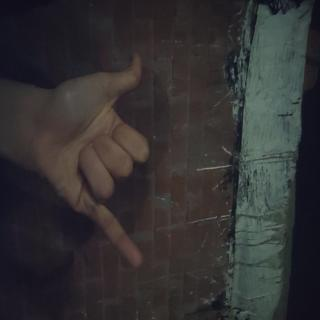YA: (36, 221, 215, 320)
